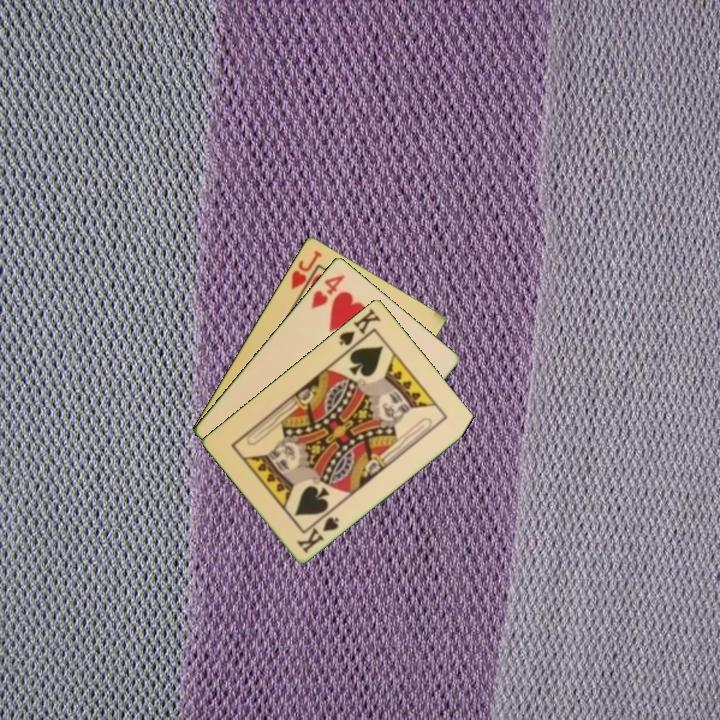4h: (307, 270, 348, 312)
Jh: (287, 246, 325, 292)
Ks: (335, 304, 384, 348), (293, 513, 342, 556)
